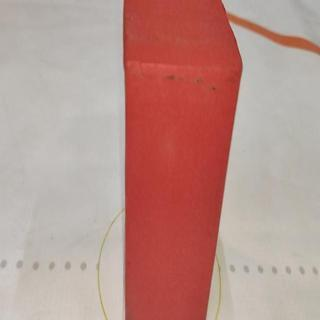redbox: (119, 0, 244, 320)
